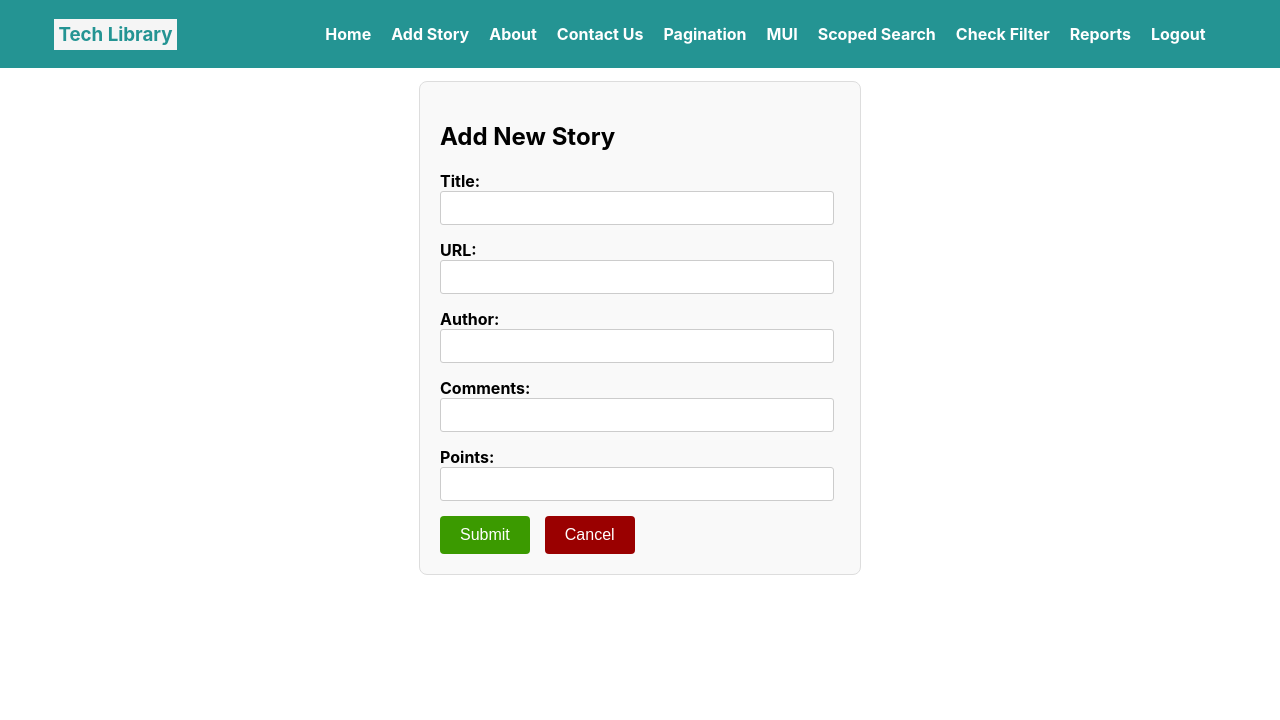
Test: AddStoryForm Component › shows error messages on invalid input
Click the button "Submit". click: (485,535)
box: 440,516 -> 530,554
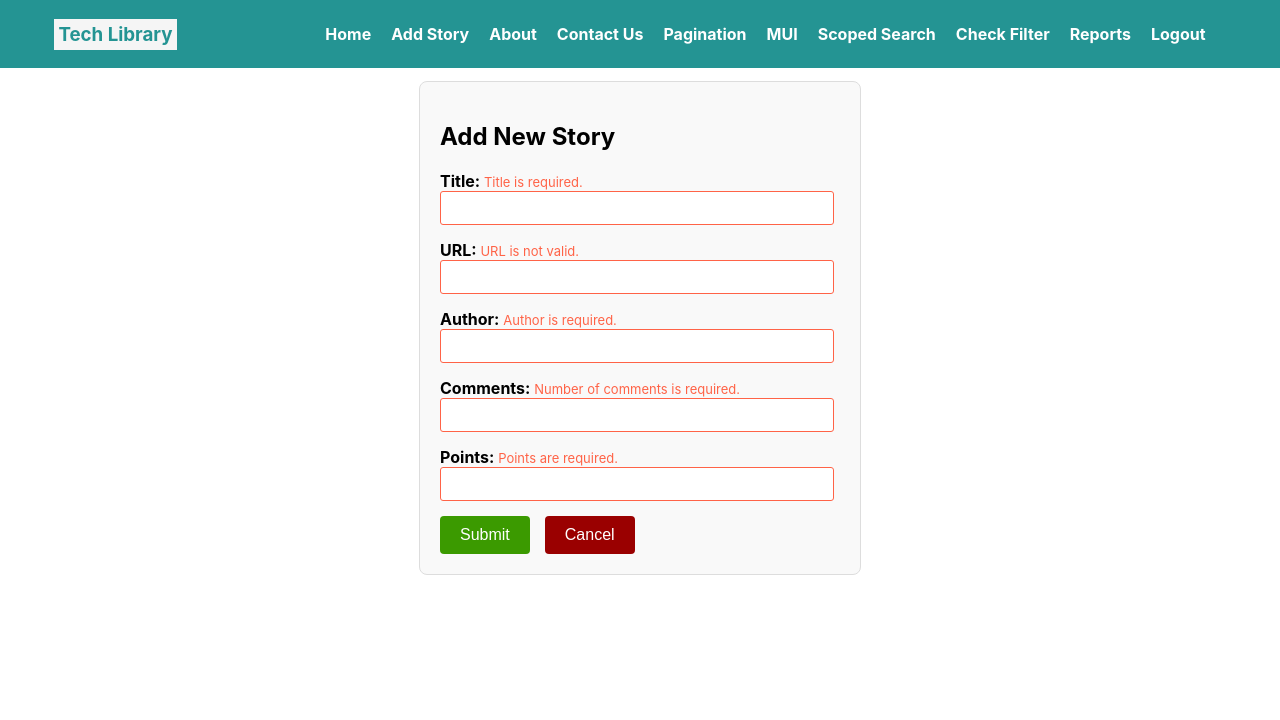
expect the text "Title is required." is shown: met, box 484,174 -> 583,190
expect the text "URL is not valid." is shown: met, box 480,243 -> 579,259
expect the text "Author is required." is shown: met, box 503,312 -> 617,328
